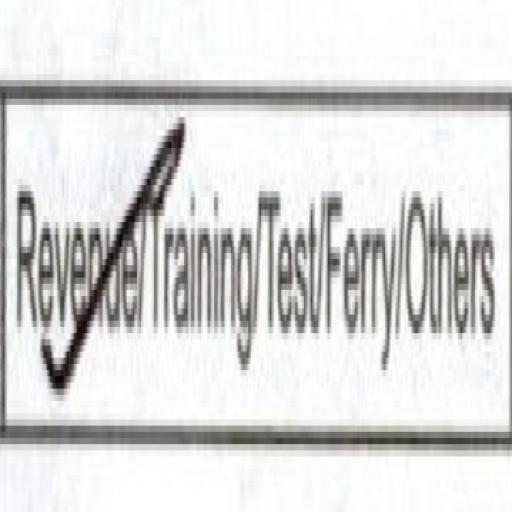check: (0, 0, 147, 512)
